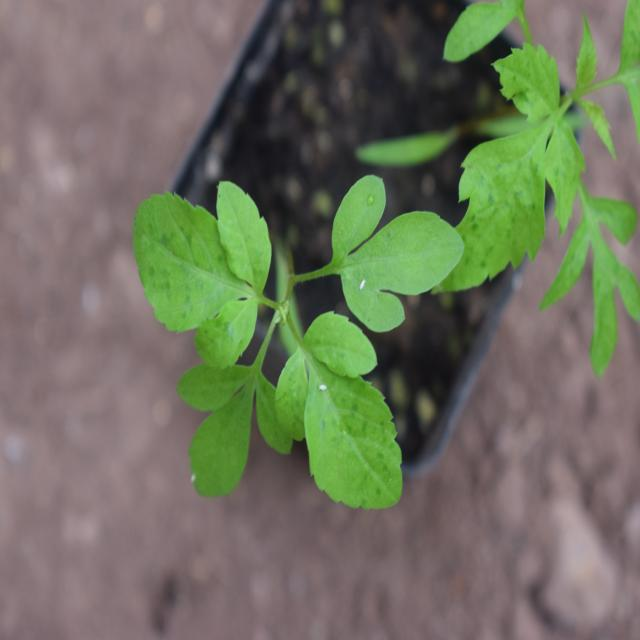Bidens pilosa: (124, 145, 462, 508)
